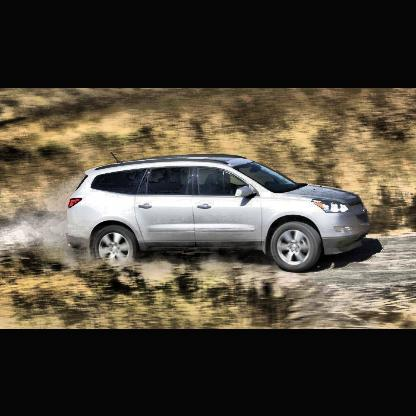Chevrolet Traverse SUV 2012: (64, 150, 373, 273)
